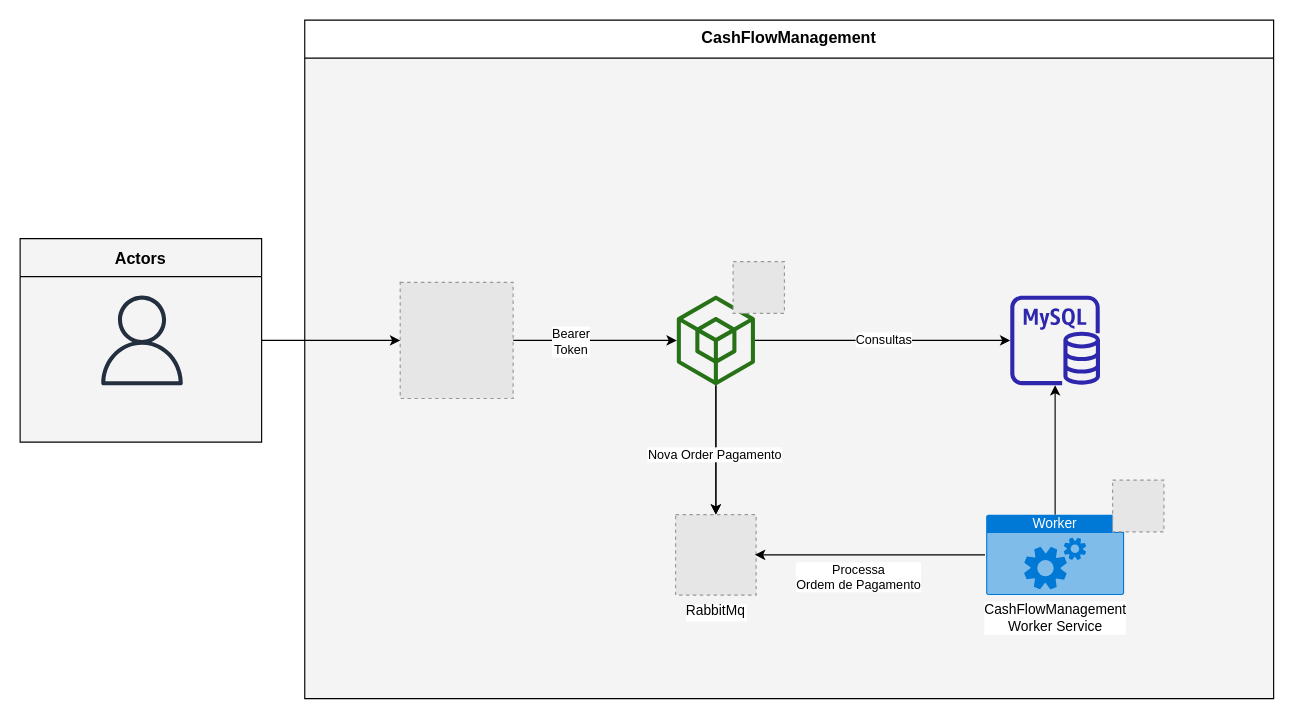
Some shapes in this 1294 by 719 pixel diagram are drawn without their labels. Grey dashed boxes stand in for pictures. The centre of each missing label's shape, as x and y in pixels:
CashFlowManagement API: point 715,340
User: point 141,340
